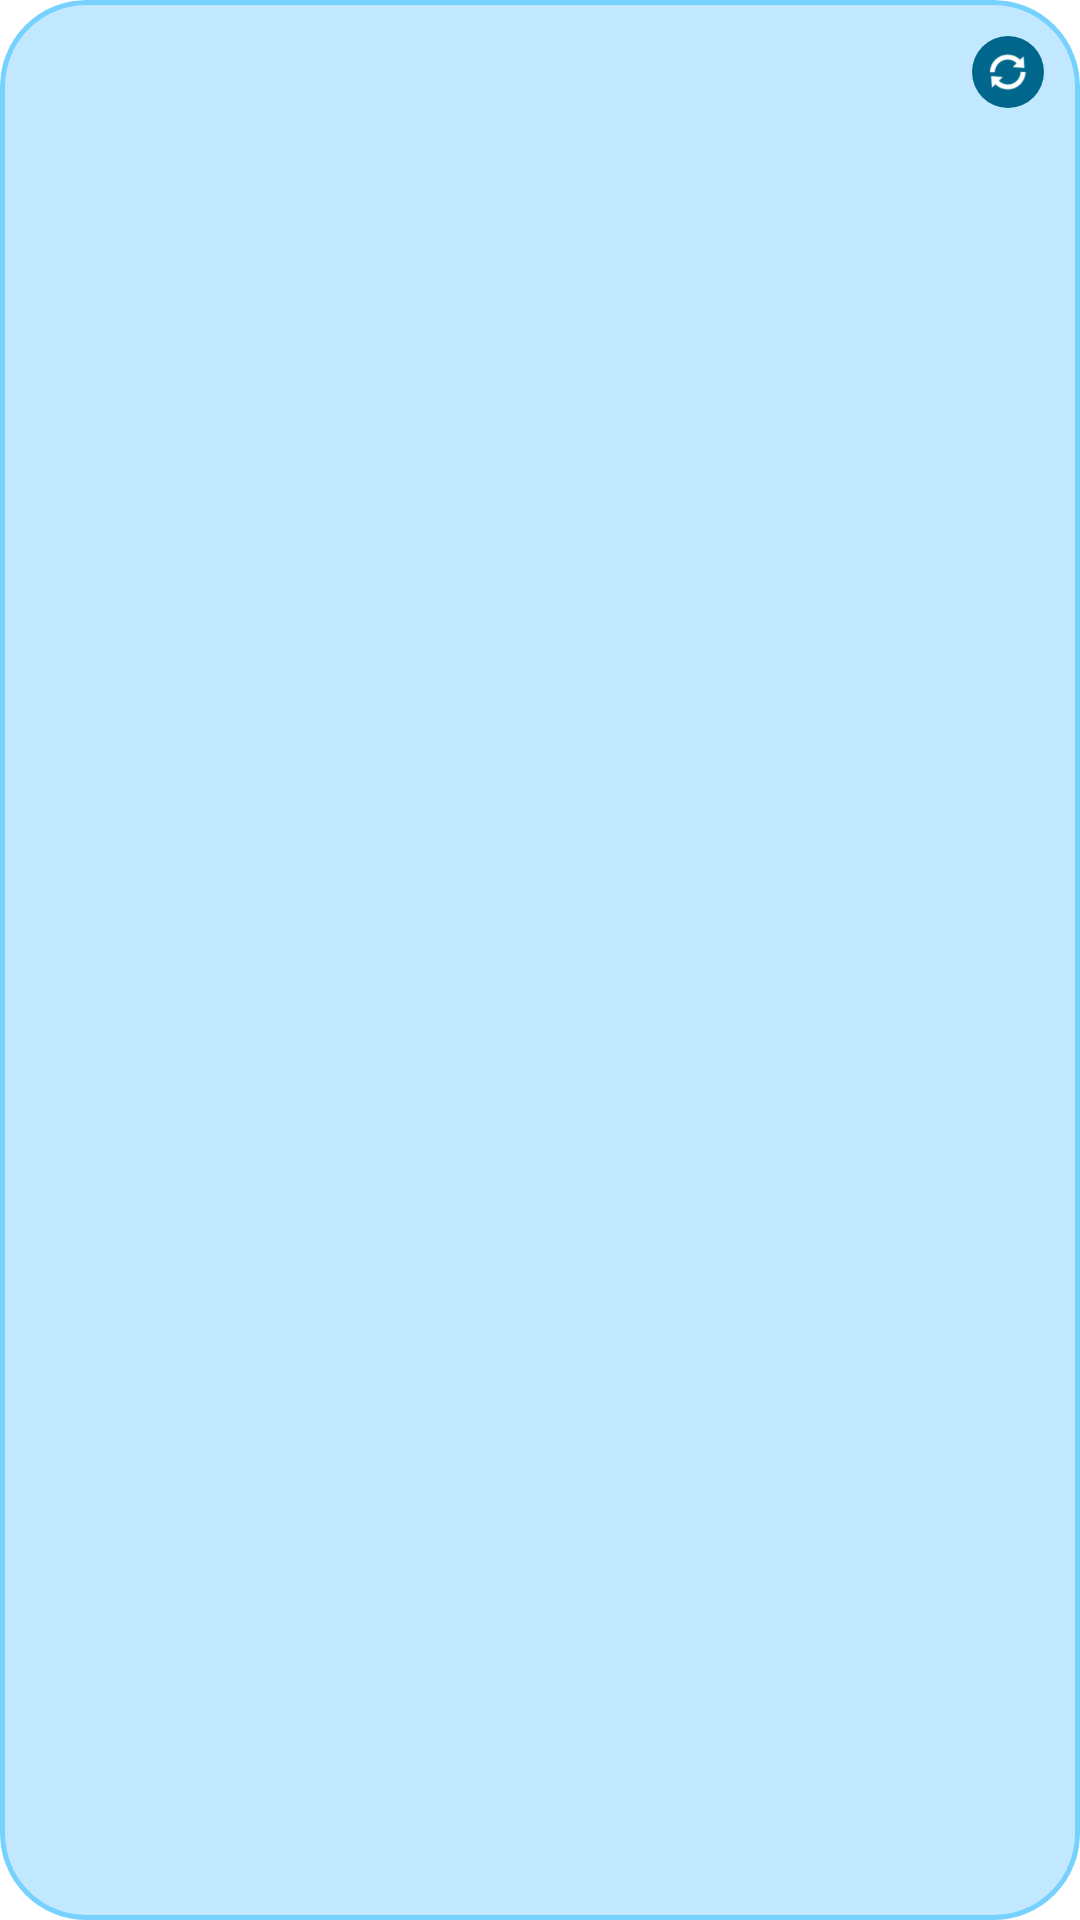

Where to tap for icons on this 1080px×1920px app screen, as (x,y):
Actualizar: (1008,72)
